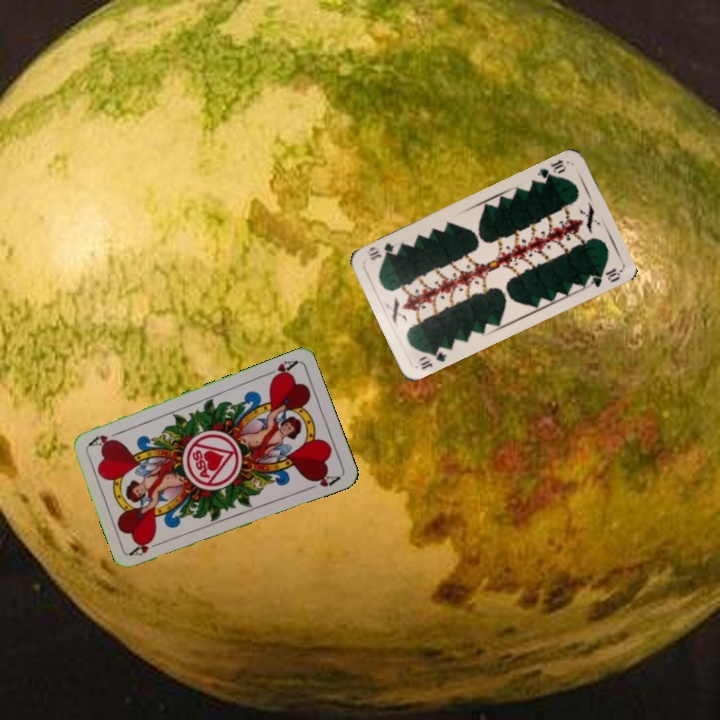G10: (533, 155, 568, 185), (416, 346, 449, 372)
HA: (261, 356, 300, 383), (127, 537, 167, 559)
